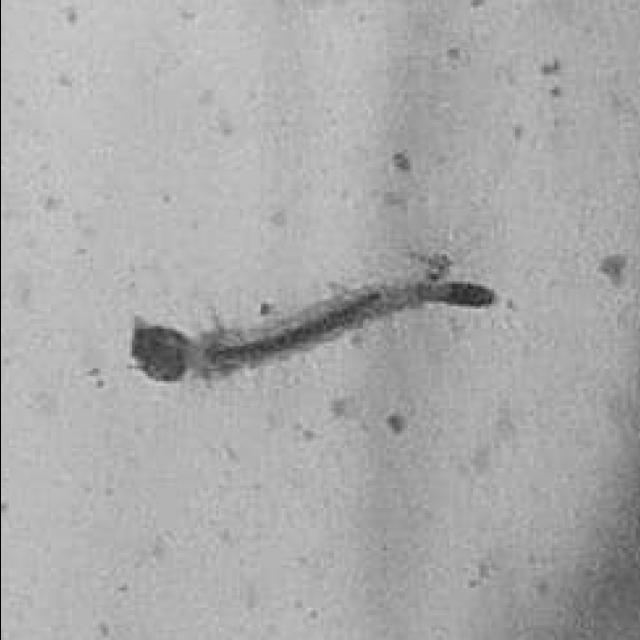larvas: (128, 282, 487, 373)
